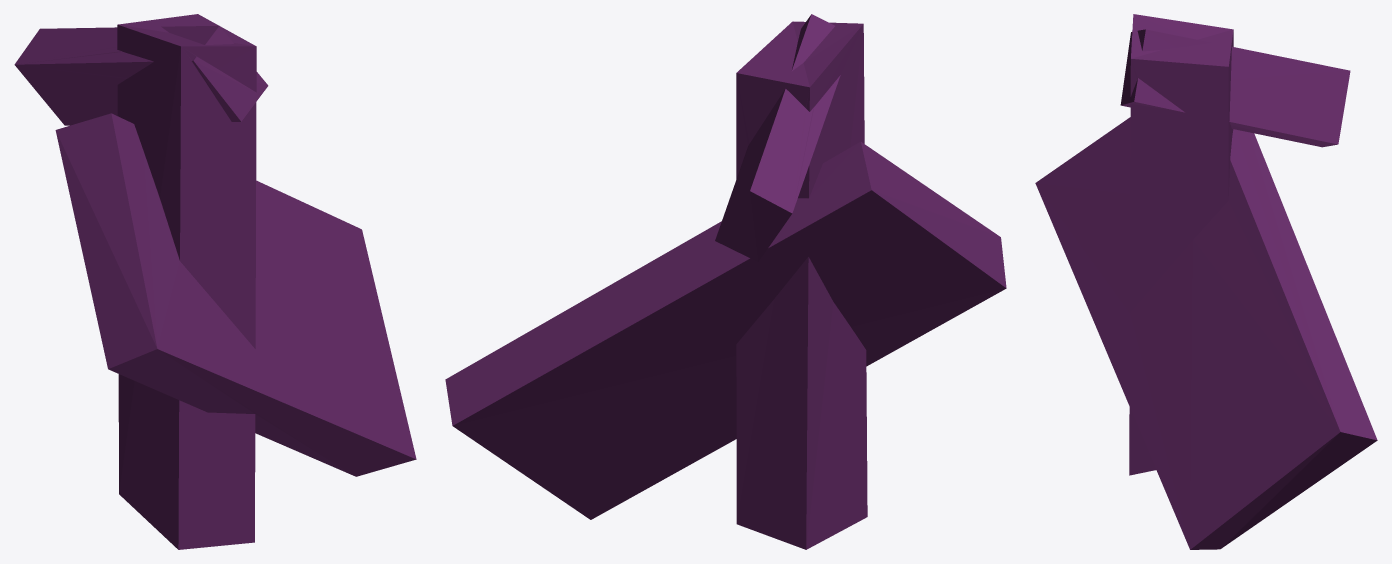
3 views of the same model, side by side, from view 1: azimuth 30°, elevation 25°; view 2: azimuth 150°, elevation 25°; view 3: azimuth 270°, elevation 25° (orthographic). The views are drawn at different scales.
Visible parts, largest first — view 1: 426_Cube.1732; view 2: 426_Cube.1732; view 3: 426_Cube.1732.
Part boxes in pixels (<box>): 426_Cube.1732: <box>14,14,416,549</box>; 426_Cube.1732: <box>445,14,1006,549</box>; 426_Cube.1732: <box>1035,14,1377,549</box>.
Bounding box in the file's own units: 10.78 × 13.16 × 9.17.
